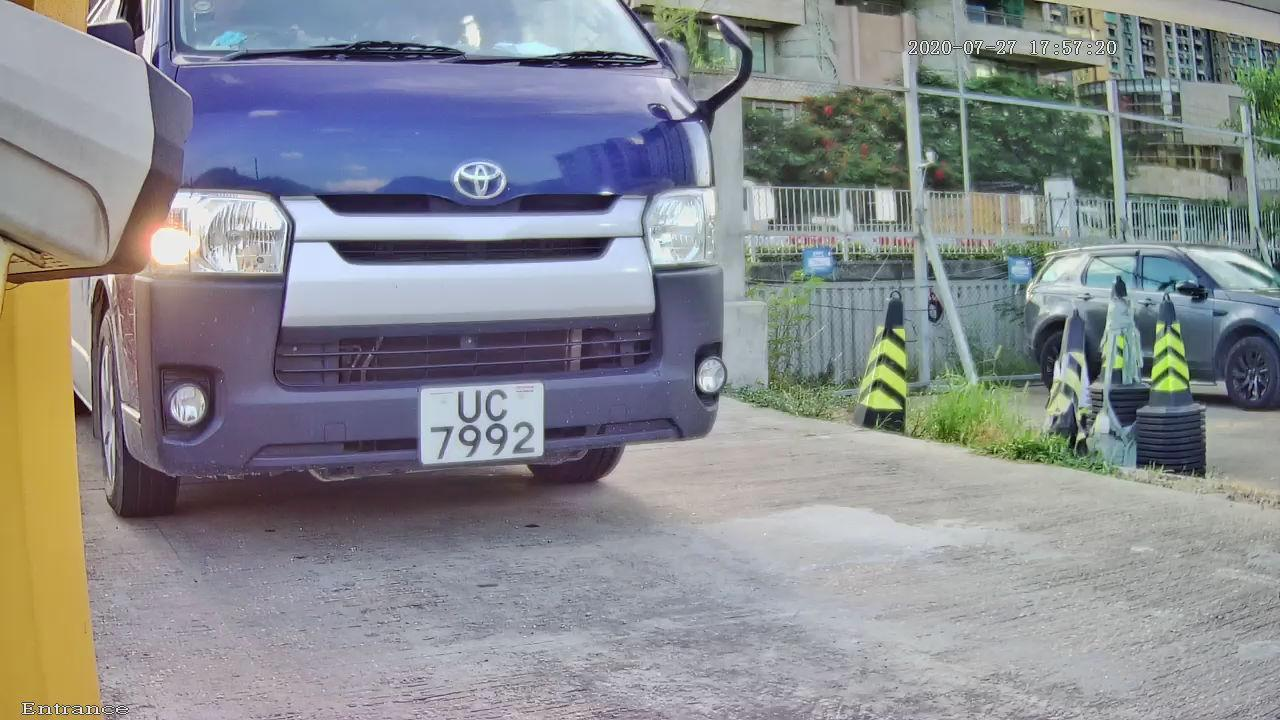privatecar: (69, 4, 795, 537)
